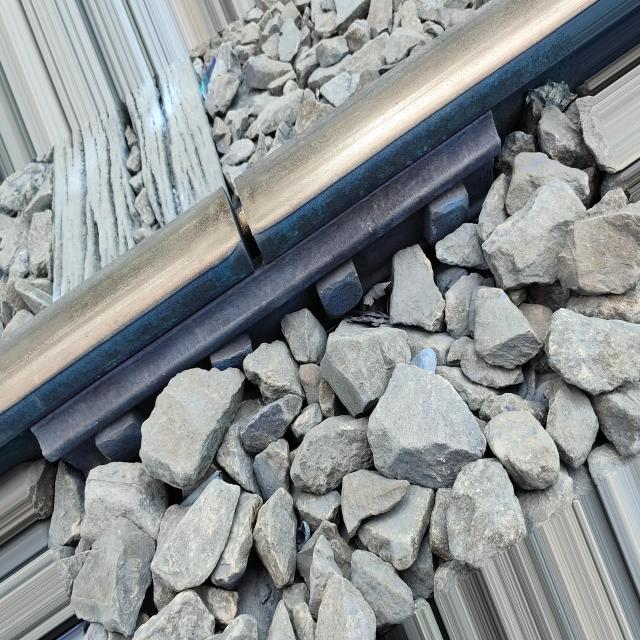crack: (203, 148, 265, 295)
